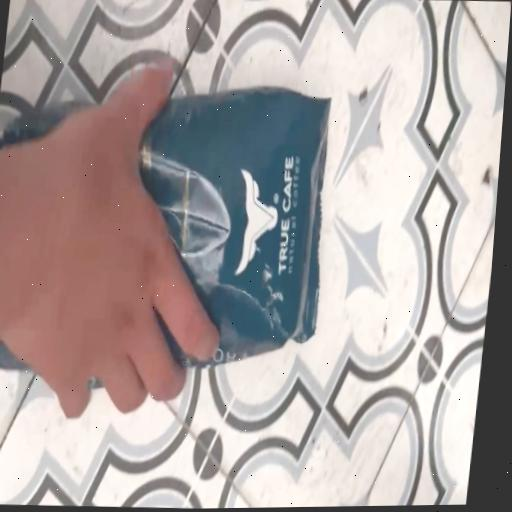cafe_hat: (139, 88, 329, 367), (0, 102, 83, 147), (0, 342, 27, 369)
